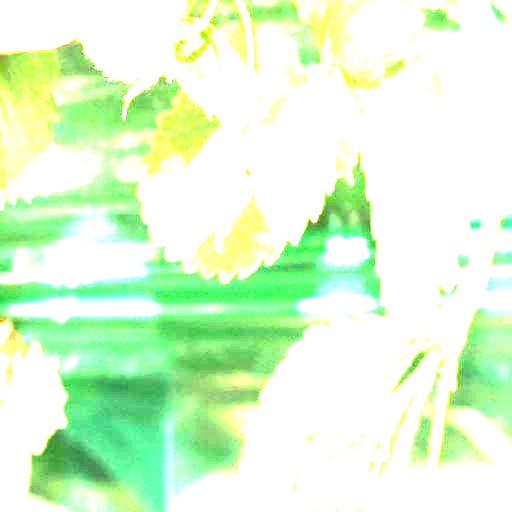Gray Mold: (162, 120, 292, 254)
